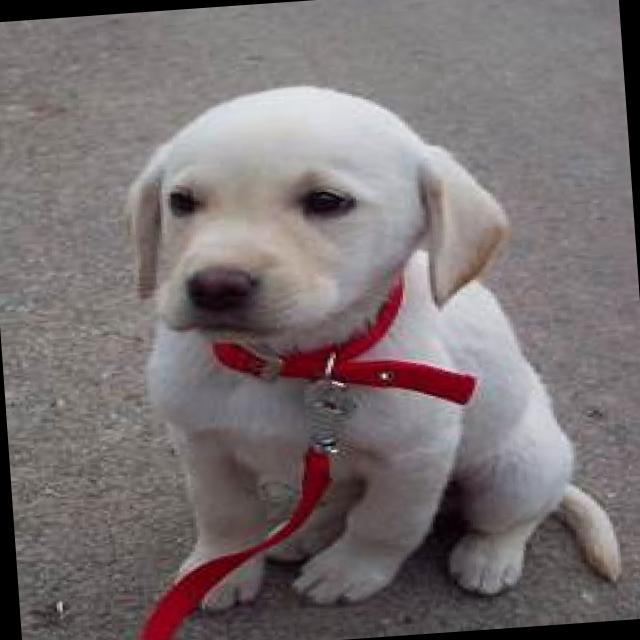dog: (108, 66, 624, 614)
